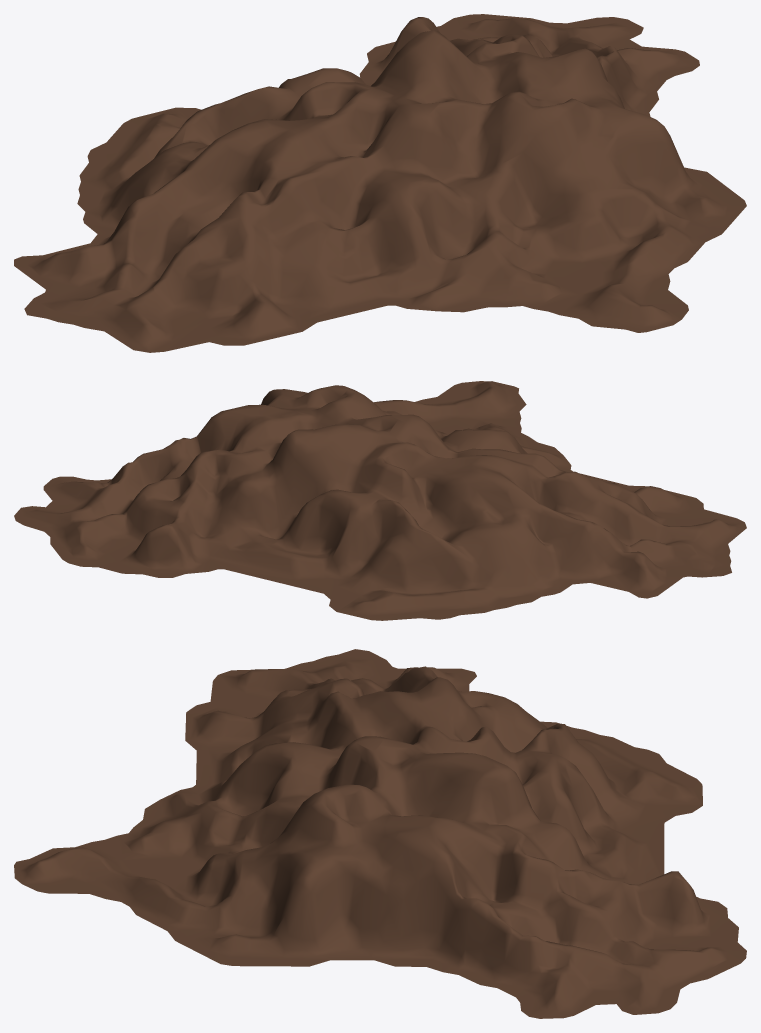
Rendered from corpse_pile_01.dae.
3 renders of one model, top to bottom at view 1: azimuth 30°, elevation 25°; view 2: azimuth 150°, elevation 25°; view 3: azimuth 270°, elevation 25°, orthographic. The views are drawn at different scales.
Visible parts, largest first — view 1: low; view 2: low; view 3: low.
Boxes of the visible parts, x1,y1,x2,y2 form: low: (14, 14, 746, 352); low: (14, 381, 746, 620); low: (14, 649, 746, 1018).
Bounding box in the file's own units: 3.04 × 0.4338 × 2.55.
